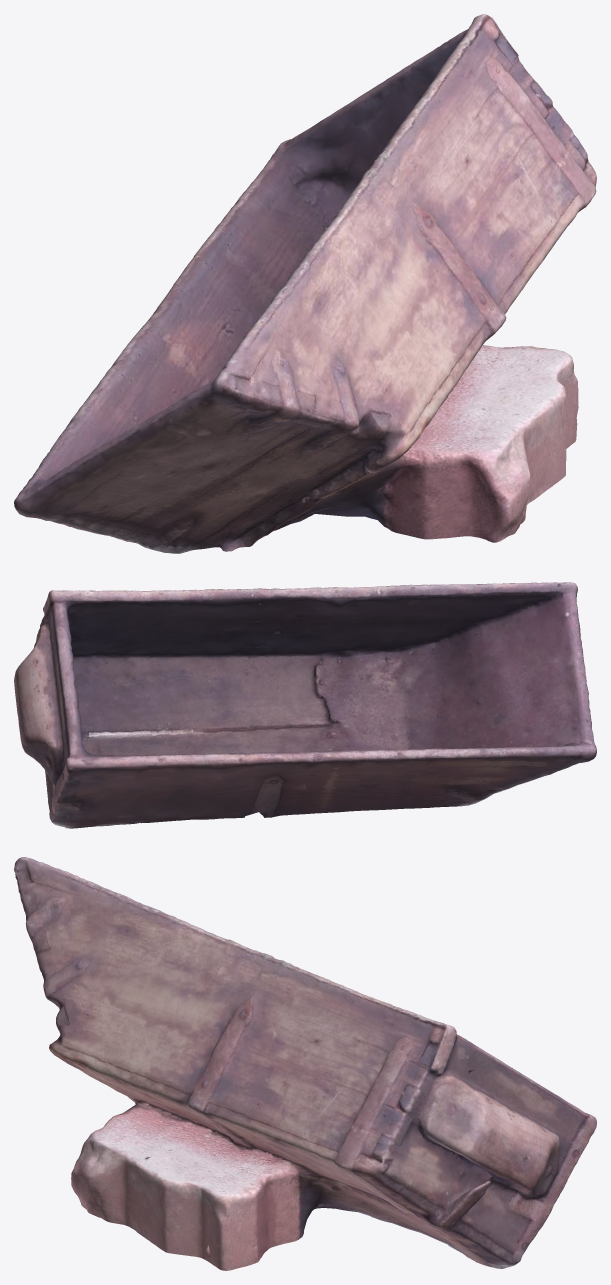
The model's file is HeminaLow.glb.
3 renders of one model, top to bottom at view 1: azimuth 30°, elevation 25°; view 2: azimuth 150°, elevation 25°; view 3: azimuth 270°, elevation 25°, orthographic. The views are drawn at different scales.
Visible parts, largest first — view 1: Medicion; view 2: Medicion; view 3: Medicion.
Part boxes in pixels (box(x1,y1,x2,y2)): Medicion: box(14, 14, 596, 553); Medicion: box(14, 582, 596, 828); Medicion: box(14, 857, 596, 1270).
Bounding box in the file's own units: 0.7064 × 0.3023 × 0.6085.
1 material, 1 textured.
